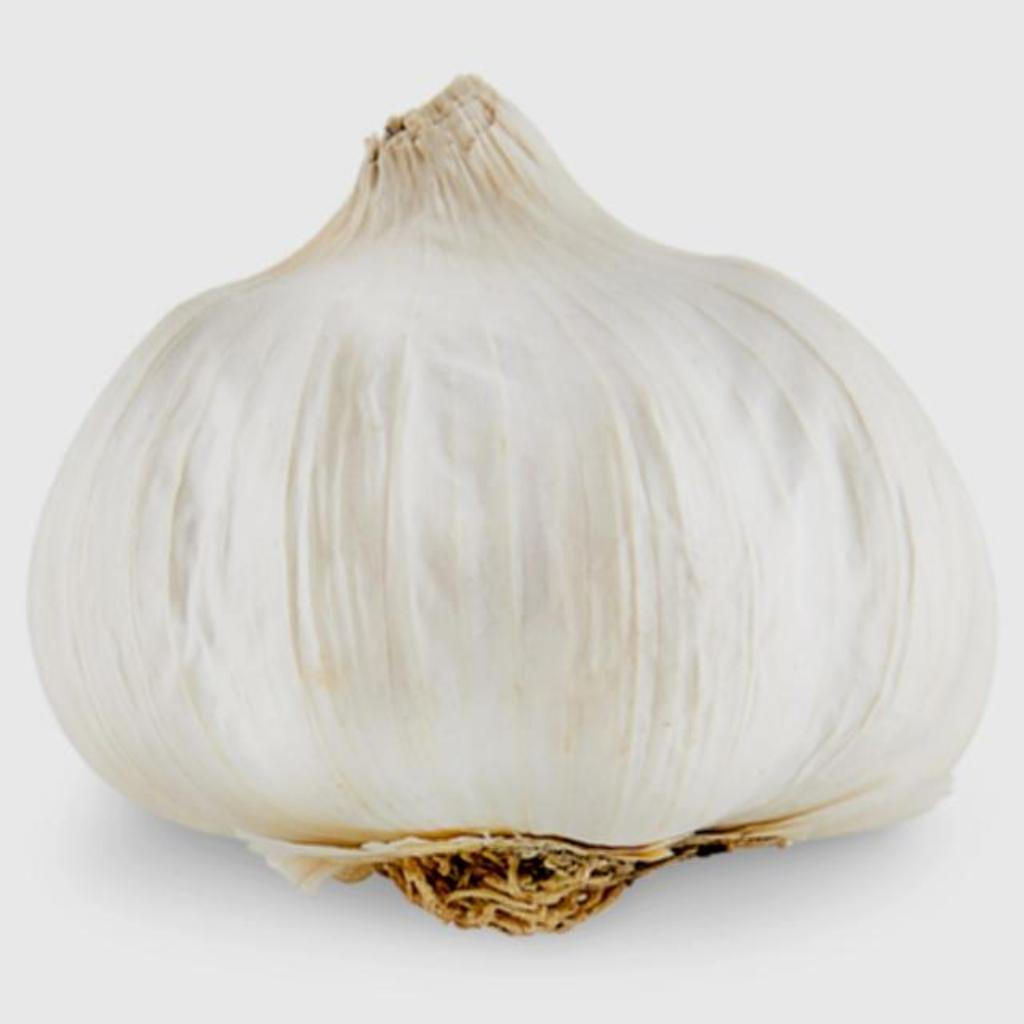garlic: (30, 78, 994, 933)
